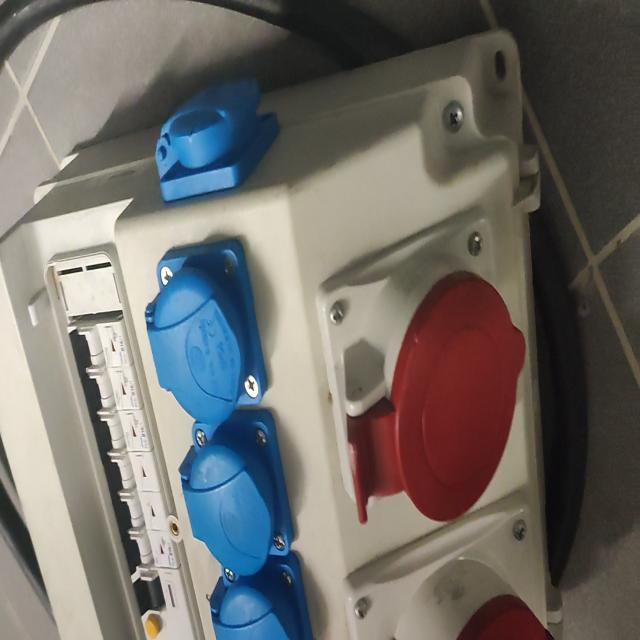400v socket: (316, 207, 526, 521), (340, 490, 555, 640)
house plug covered: (147, 239, 269, 424), (182, 409, 296, 577), (155, 84, 280, 201), (209, 551, 312, 640)
